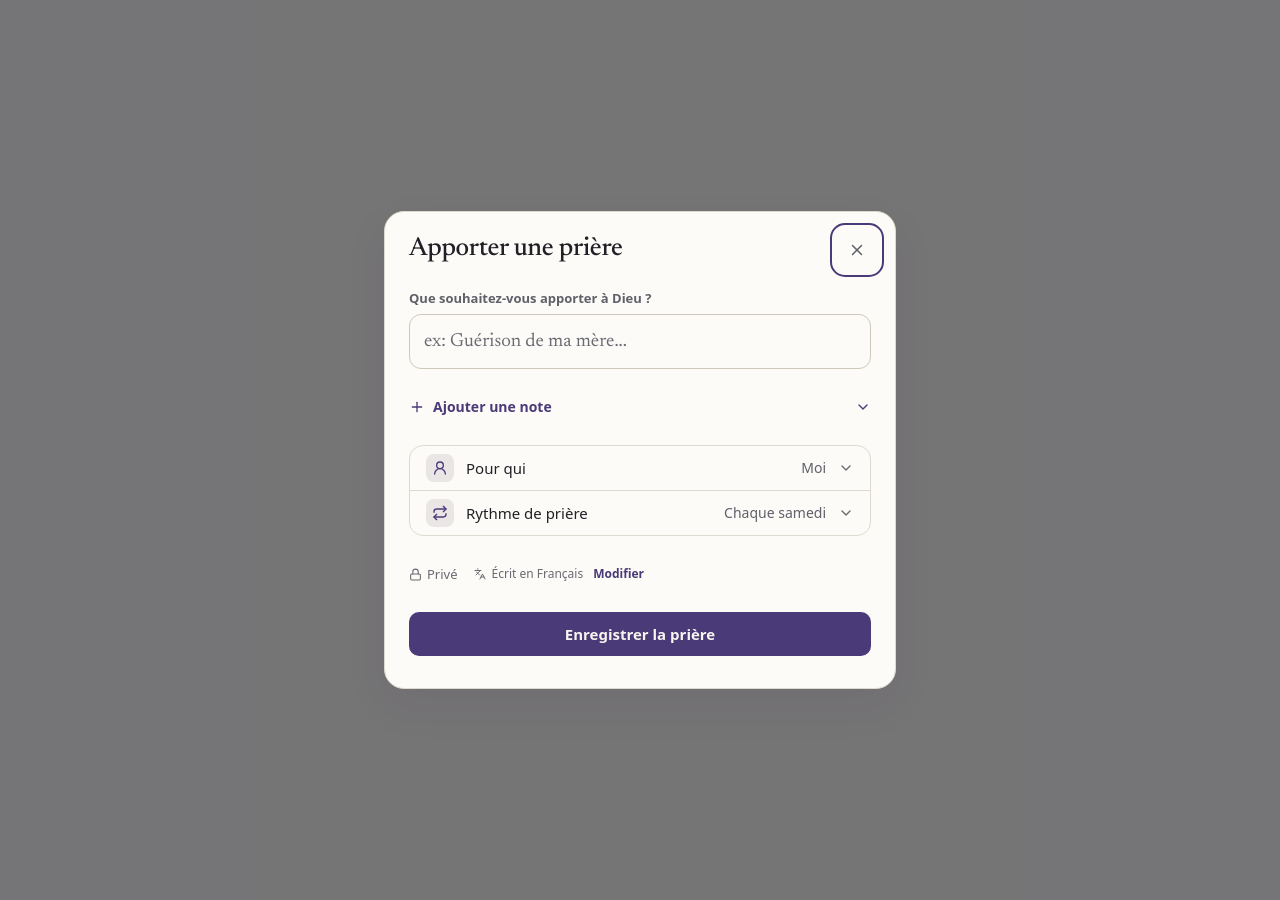
Test: PrayerForm — Quick Add › "Add a note" reveals the note field
What coordinates should you click on to do the following:
click the button "Ajouter une note"
I would click on:
 (492, 407)
Its box is [409, 385, 871, 429].
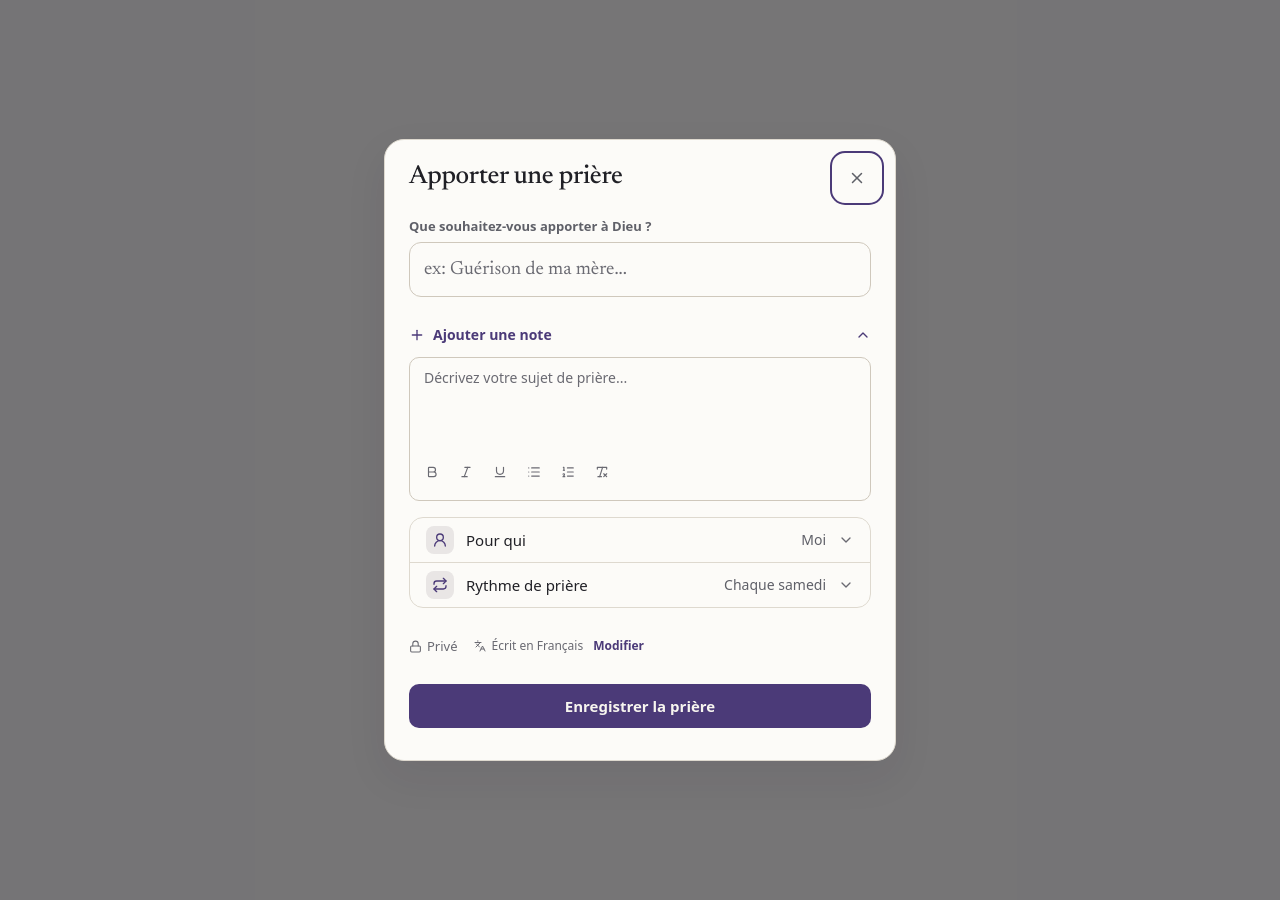
Result: the field named "Détails (facultatif)" is shown at [410, 358, 870, 450]
